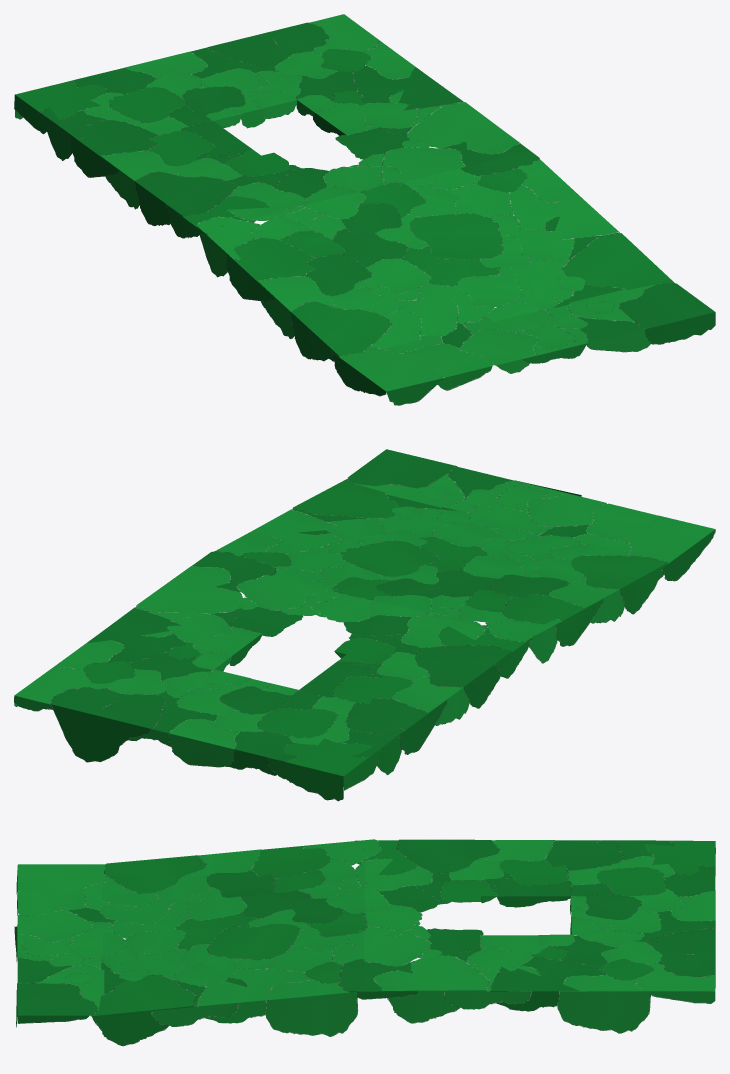
The model's file is Rumput.fbx.
3 renders of one model, top to bottom at view 1: azimuth 30°, elevation 25°; view 2: azimuth 150°, elevation 25°; view 3: azimuth 270°, elevation 25°, orthographic. The views are drawn at different scales.
Parts seen in each view (by area): view 1: Rumput; view 2: Rumput; view 3: Rumput.
Boxes of the visible parts, <box> form: Rumput: <box>14,14,715,405</box>; Rumput: <box>14,449,715,801</box>; Rumput: <box>14,839,715,1046</box>.
Bounding box in the file's own units: 192 × 41.66 × 370.
